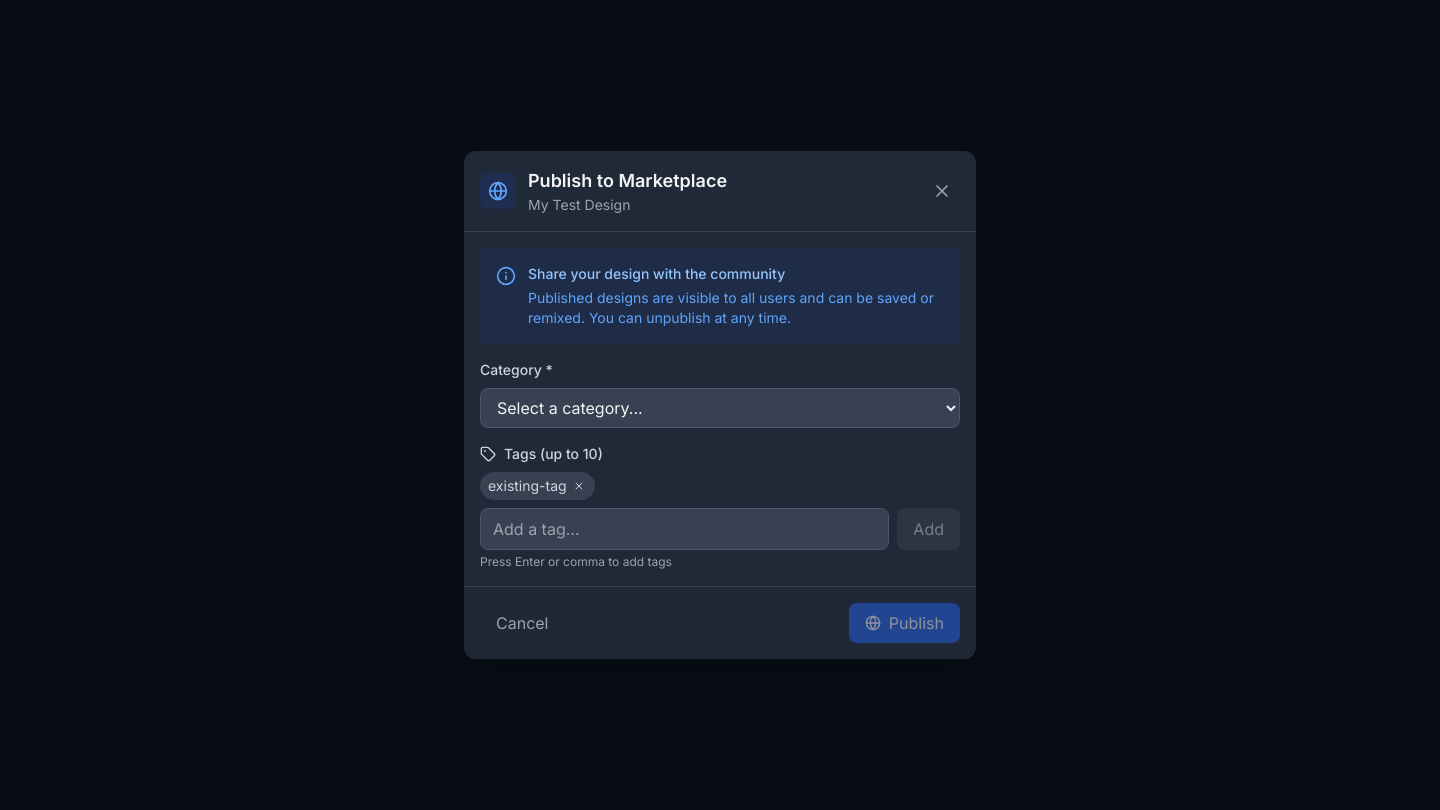
Test: PublishToMarketplaceDialog › allows removing tags
The width and height of the screenshot is (1440, 810).
Expected: the text "existing-tag" is shown, [480,472,595,500]
Click the button without text next to "existing-tag".
click(579, 486)  # box [571,478,587,494]
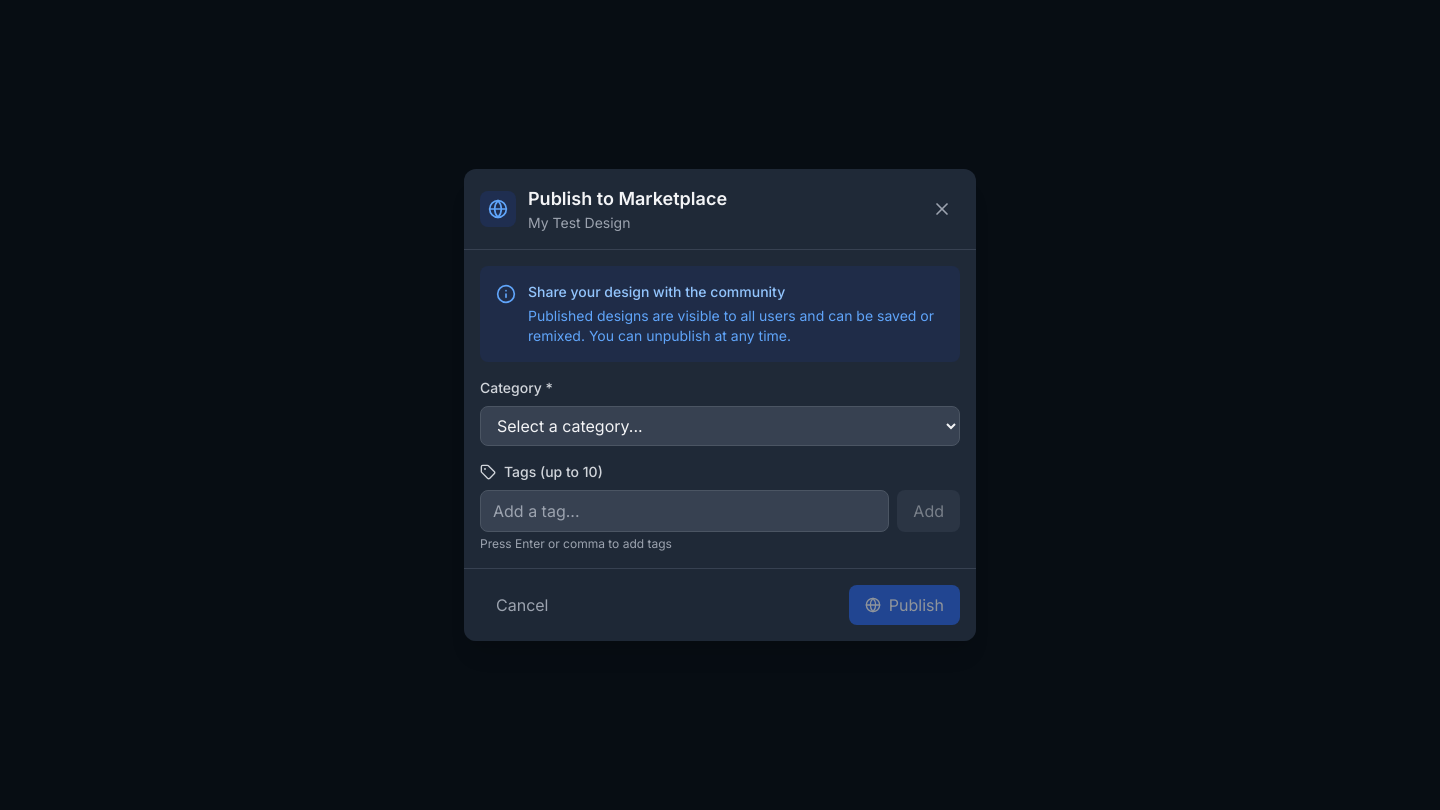
Expected: the text "existing-tag" is gone
